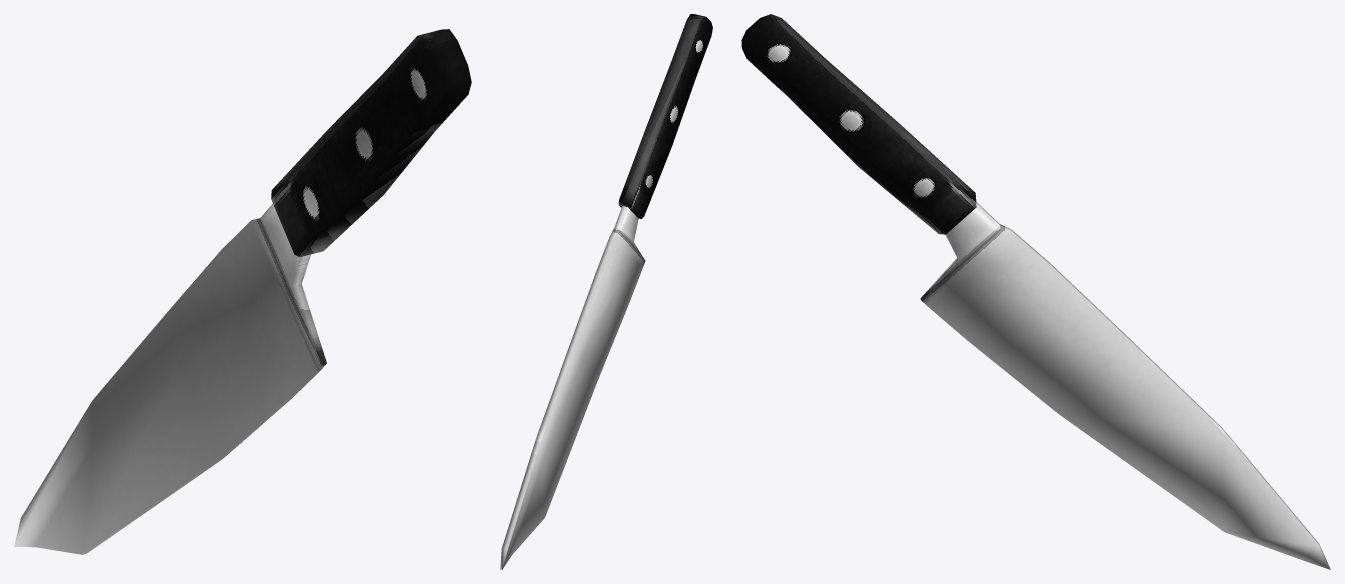
The model's file is kitchenknife.glb.
3 renders of one model, left to right at view 1: azimuth 30°, elevation 25°; view 2: azimuth 150°, elevation 25°; view 3: azimuth 270°, elevation 25°, orthographic. The views are drawn at different scales.
Visible parts, largest first — view 1: kitchennife; view 2: kitchennife; view 3: kitchennife.
Boxes of the visible parts, box(x1,y1,x2,y2) form: kitchennife: box(14, 29, 471, 554); kitchennife: box(500, 14, 712, 569); kitchennife: box(741, 14, 1330, 569).
Bounding box in the file's own units: 0.039 × 0.7704 × 0.7393.
Materials: 1 (1 with a texture image).
